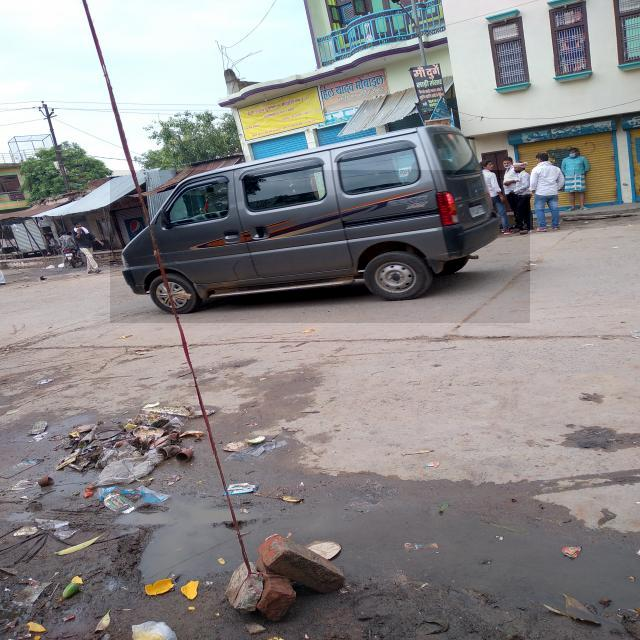Travller: (110, 170, 530, 323)
